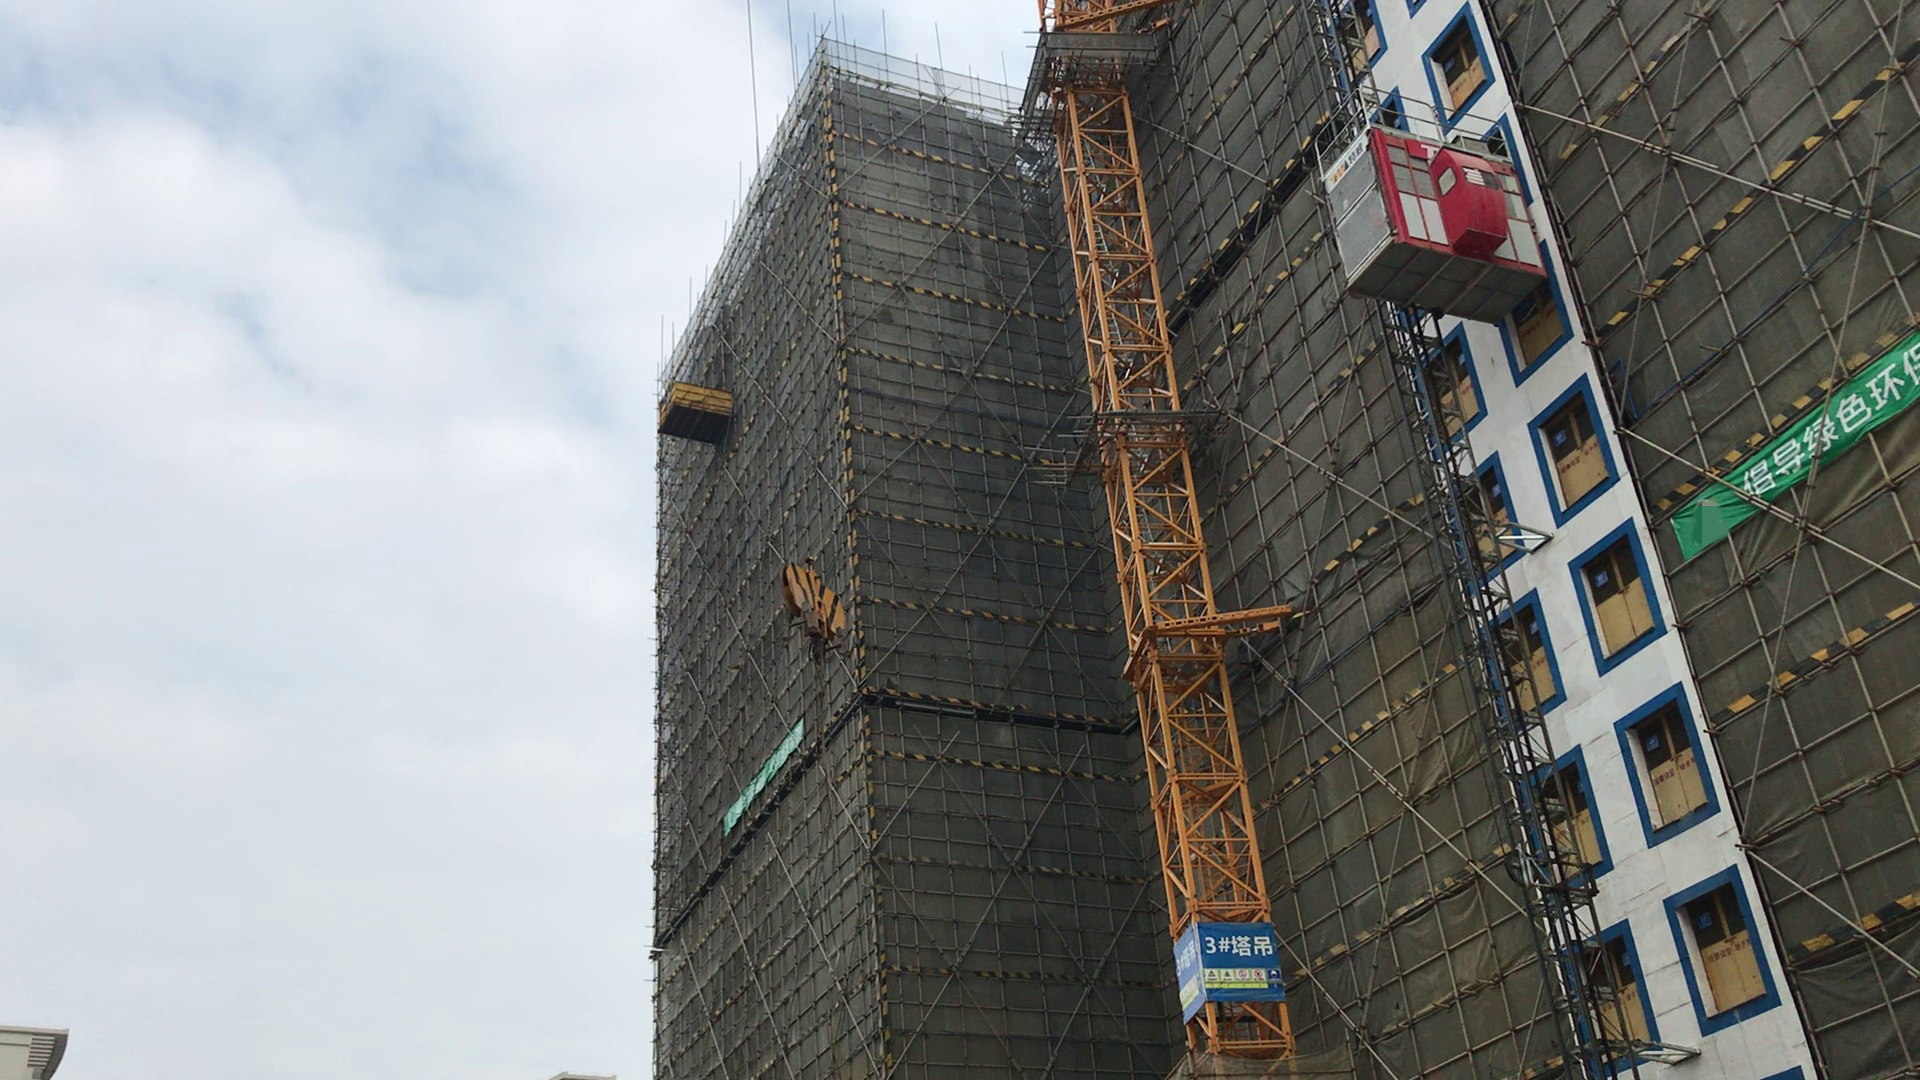hook: (756, 551, 869, 665)
slogan: (1652, 319, 1920, 578), (703, 716, 833, 847), (1160, 916, 1288, 1029)
